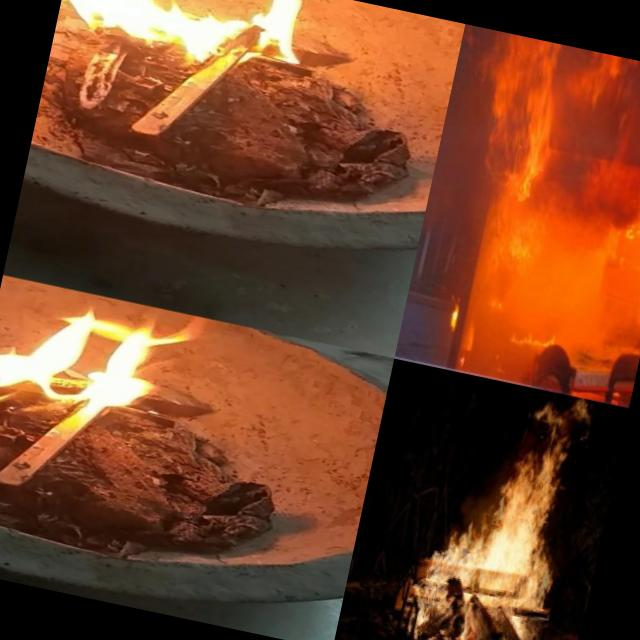fire: (404, 373, 595, 640), (460, 60, 640, 339), (0, 274, 205, 437), (50, 0, 331, 104)
